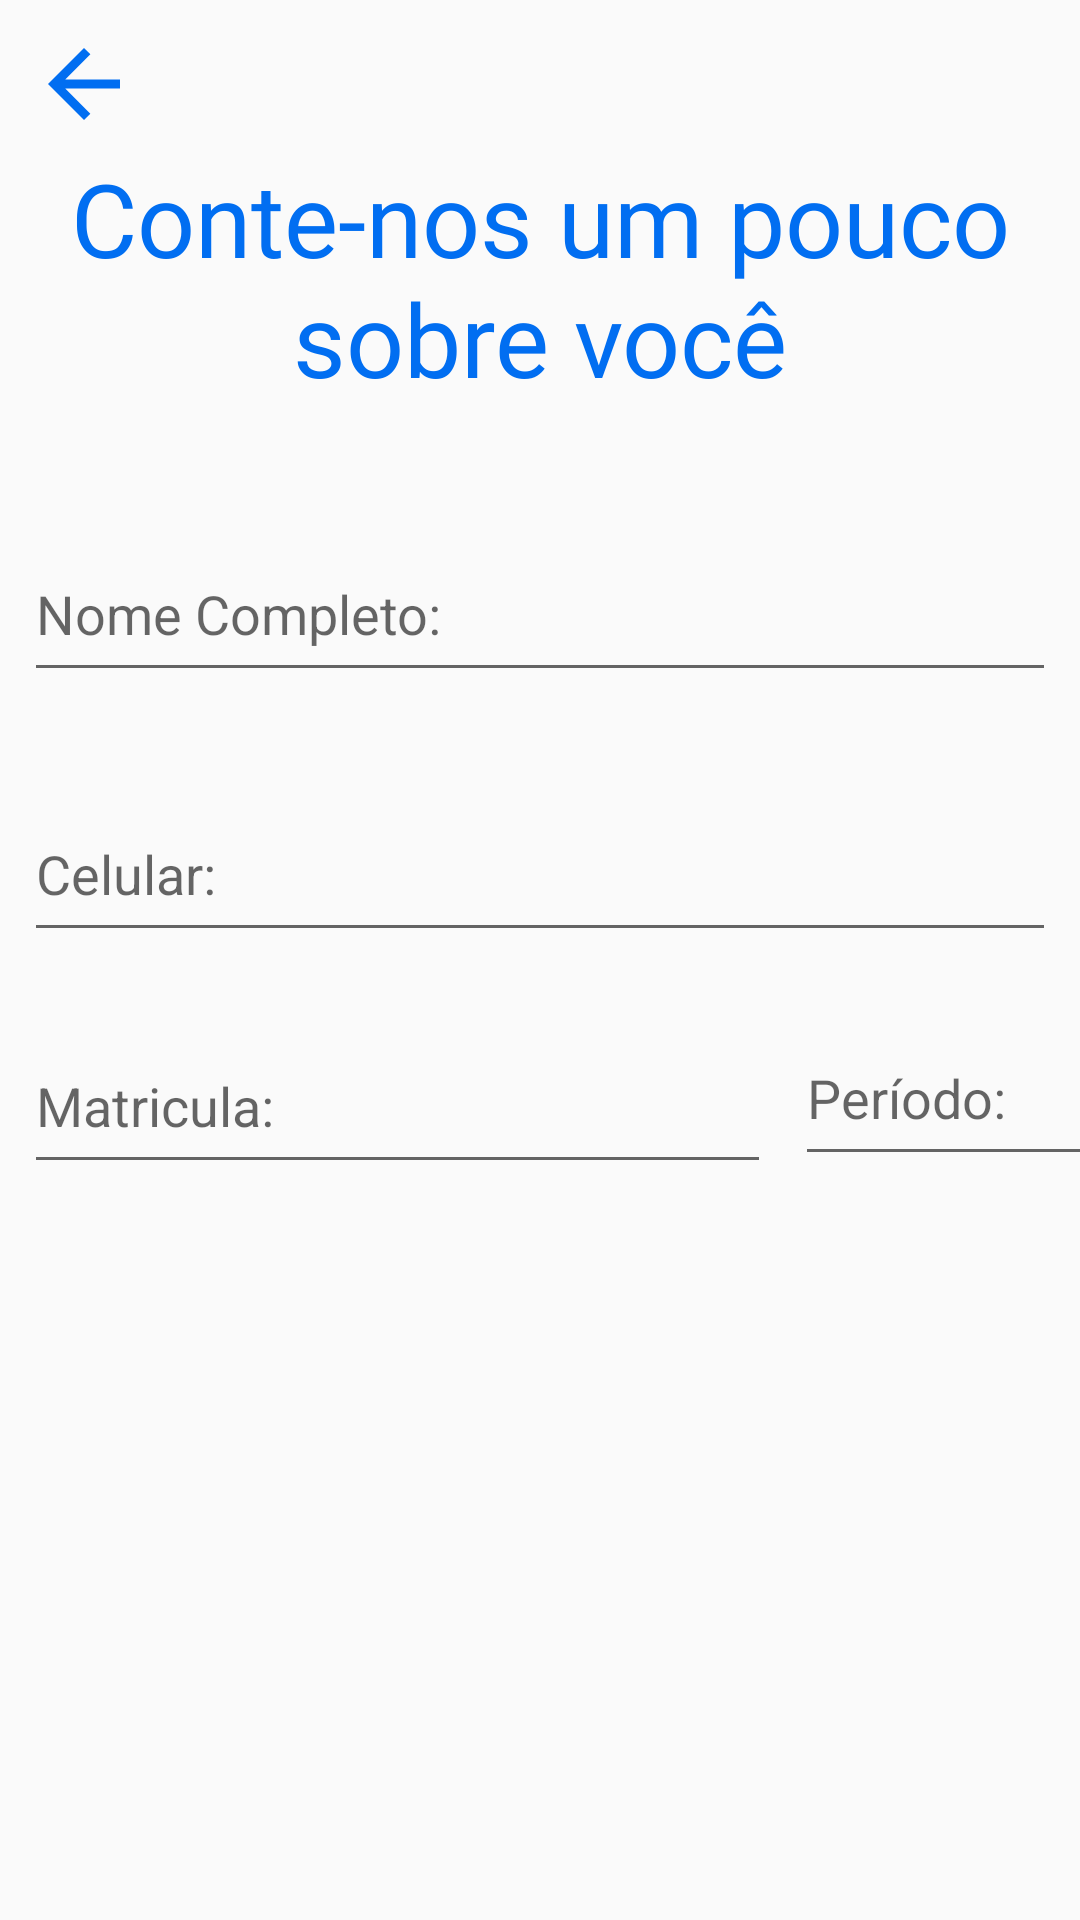

Where icons sit on this 1080px x 1920px app screen, as bbox(x1, y1, x2, y2):
arrow back: bbox(48, 48, 120, 120)
